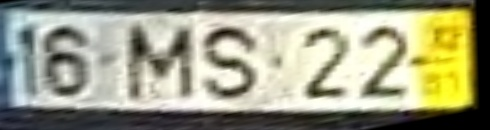1: (12, 25, 43, 98)
2: (298, 23, 357, 101), (358, 23, 414, 101)
6: (42, 24, 97, 98)
M: (124, 24, 198, 104)
S: (198, 24, 263, 101)
